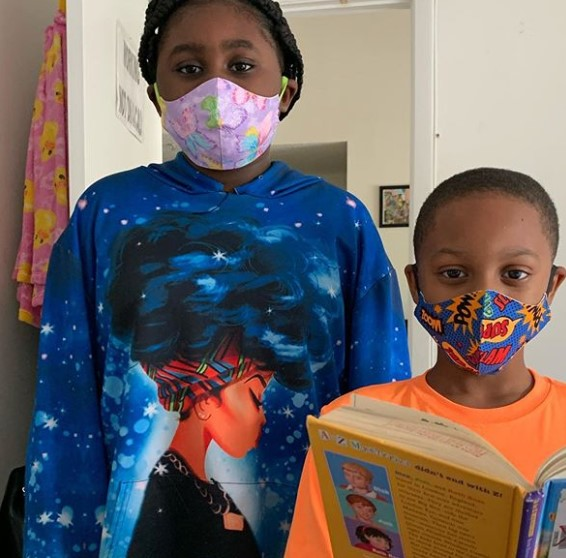face_with_mask: (405, 166, 565, 378), (140, 6, 304, 174)
